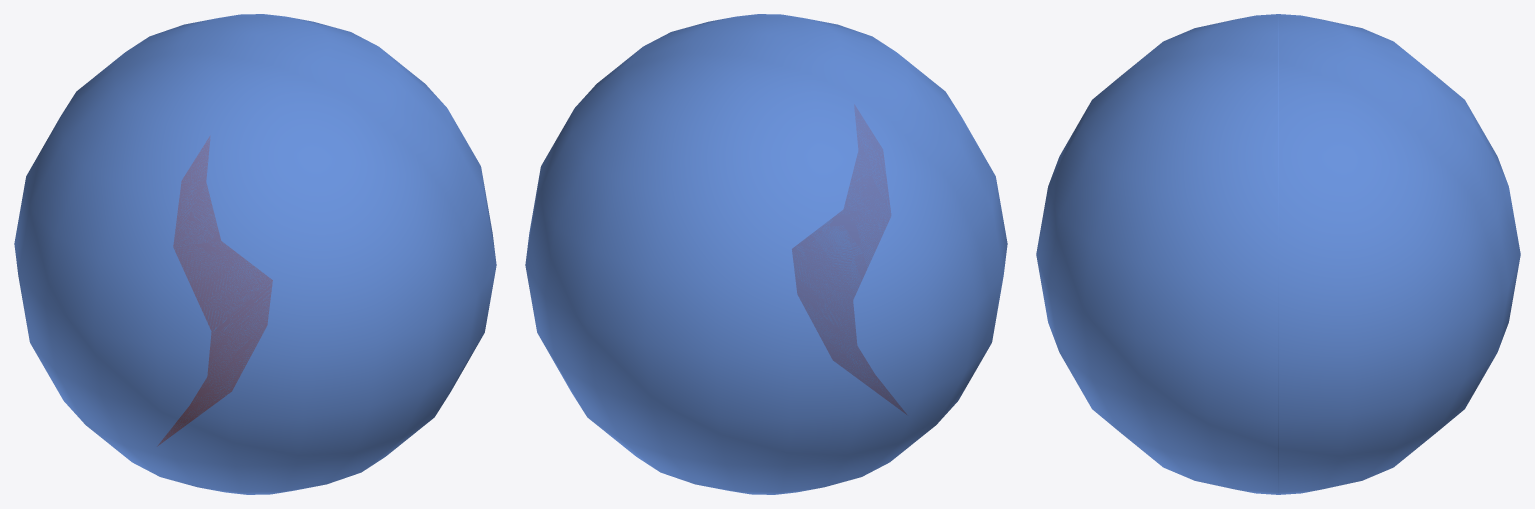
Rendered from marble.dae.
The picture shows the model from 3 angles, left to right: view 1: azimuth 30°, elevation 25°; view 2: azimuth 150°, elevation 25°; view 3: azimuth 270°, elevation 25°; orthographic projection.
Parts seen in each view (by area): view 1: SimpleSphere02, SketchUp; view 2: SimpleSphere02, SketchUp; view 3: SimpleSphere02.
Boxes of the visible parts, bbox=[...] form: SimpleSphere02: bbox=[14, 14, 496, 494]; SketchUp: bbox=[158, 137, 272, 445]; SimpleSphere02: bbox=[525, 14, 1007, 494]; SketchUp: bbox=[792, 105, 906, 414]; SimpleSphere02: bbox=[1036, 14, 1520, 494].
Size of the model in its own units: 126 by 126 by 126.
